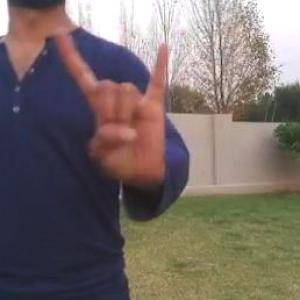takeoff-hand: (50, 24, 173, 185)
